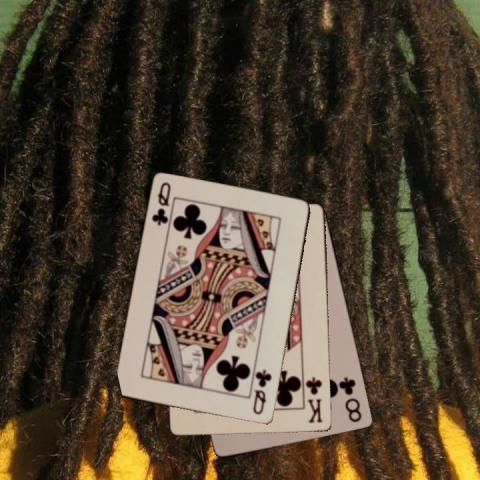8c: (338, 374, 363, 424)
Kc: (304, 374, 324, 424)
Qc: (250, 366, 273, 417), (148, 180, 172, 228)
